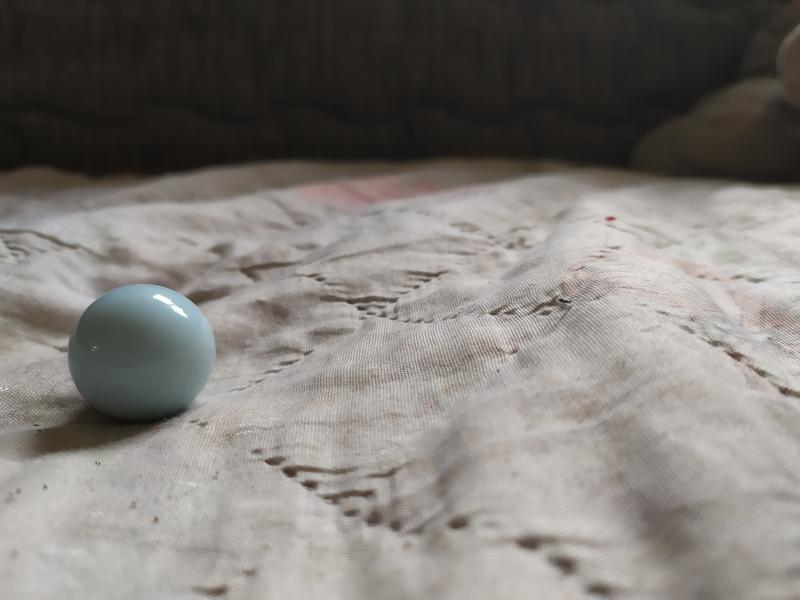Warning: (65, 281, 220, 429)
